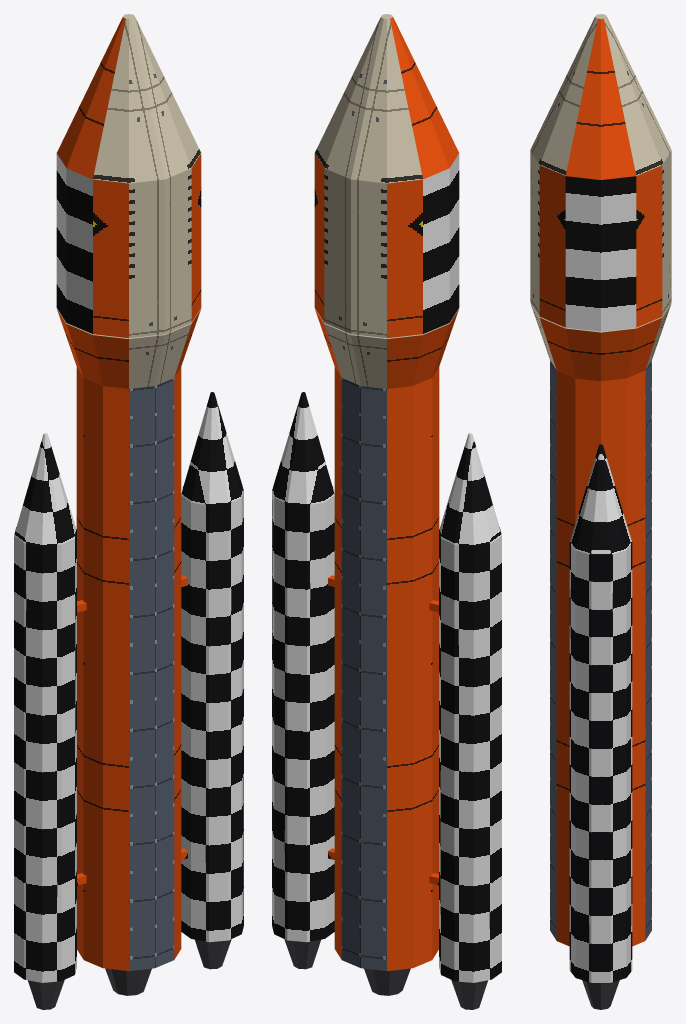
The model's file is atlas_medium.glb.
3 renders of one model, left to right at view 1: azimuth 30°, elevation 25°; view 2: azimuth 150°, elevation 25°; view 3: azimuth 270°, elevation 25°, orthographic. The views are drawn at different scales.
Visible parts, largest first — view 1: atlas_medium; view 2: atlas_medium; view 3: atlas_medium.
Part boxes in pixels (x1,y1,x2,y2): atlas_medium: (14, 14, 243, 1009); atlas_medium: (272, 14, 501, 1009); atlas_medium: (530, 14, 671, 1009).
Bounding box in the file's own units: 1.26 × 5.34 × 0.72.
Materials: 5 (4 with a texture image).
